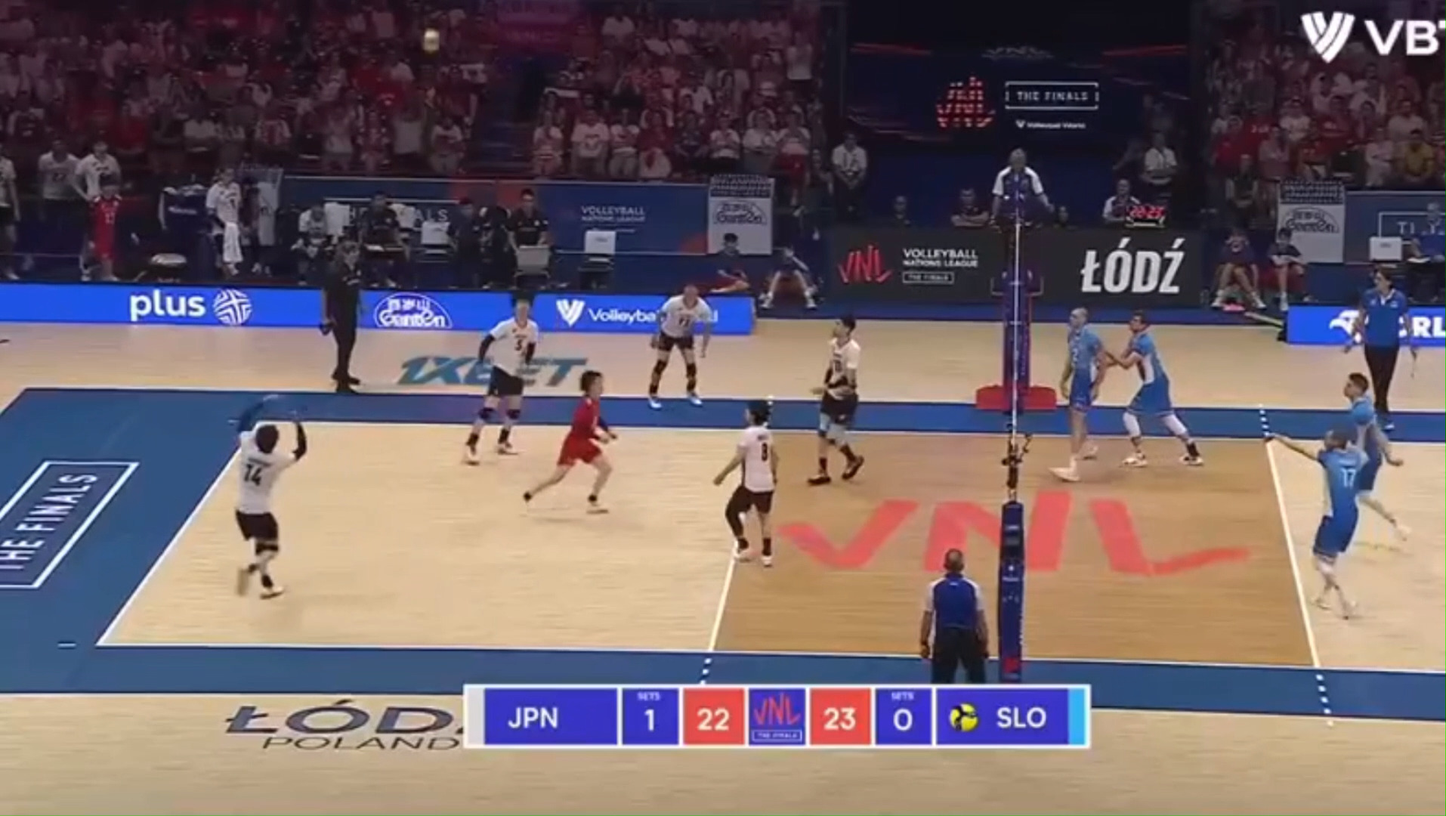ball: (421, 28, 440, 54)
player: (1267, 428, 1370, 616), (1113, 312, 1202, 467), (1051, 307, 1114, 481), (1343, 372, 1407, 536)
player 1: (234, 406, 307, 598), (524, 369, 616, 512), (465, 298, 539, 464), (713, 400, 777, 567), (808, 317, 864, 485), (647, 284, 715, 409)
referee: (1351, 267, 1417, 430), (916, 546, 988, 683), (991, 149, 1052, 296), (320, 240, 365, 393)
